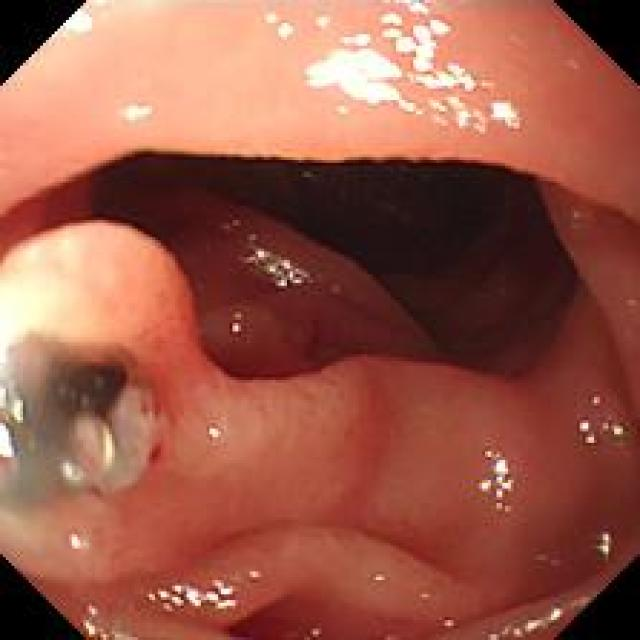color misalignment: (485, 593, 592, 639), (242, 242, 317, 297), (474, 443, 524, 520), (148, 576, 238, 611), (576, 416, 629, 448), (591, 526, 616, 562), (537, 549, 565, 568), (227, 317, 246, 340), (370, 569, 393, 585), (97, 625, 125, 638), (247, 566, 266, 585), (439, 616, 458, 629), (590, 392, 604, 407), (307, 624, 322, 636)
contrast: (100, 148, 570, 361)
instrument: (4, 351, 145, 512)
saturation: (2, 230, 149, 361), (305, 36, 415, 112)
specularity: (302, 49, 400, 101), (154, 578, 236, 607), (412, 62, 479, 90), (60, 5, 103, 46), (412, 25, 439, 72), (118, 101, 150, 127), (66, 534, 97, 556), (101, 426, 117, 467), (472, 108, 492, 140), (492, 101, 515, 128), (60, 458, 84, 483), (3, 384, 20, 418), (1, 422, 15, 459), (350, 28, 373, 47), (81, 601, 101, 621), (314, 15, 338, 31), (205, 424, 225, 442), (381, 26, 403, 41), (334, 101, 353, 117), (274, 24, 291, 41), (457, 111, 473, 128), (449, 96, 467, 111), (381, 6, 401, 19), (434, 113, 450, 129), (80, 615, 95, 632), (402, 98, 419, 112), (395, 40, 414, 52), (434, 99, 447, 113), (264, 11, 279, 23)
